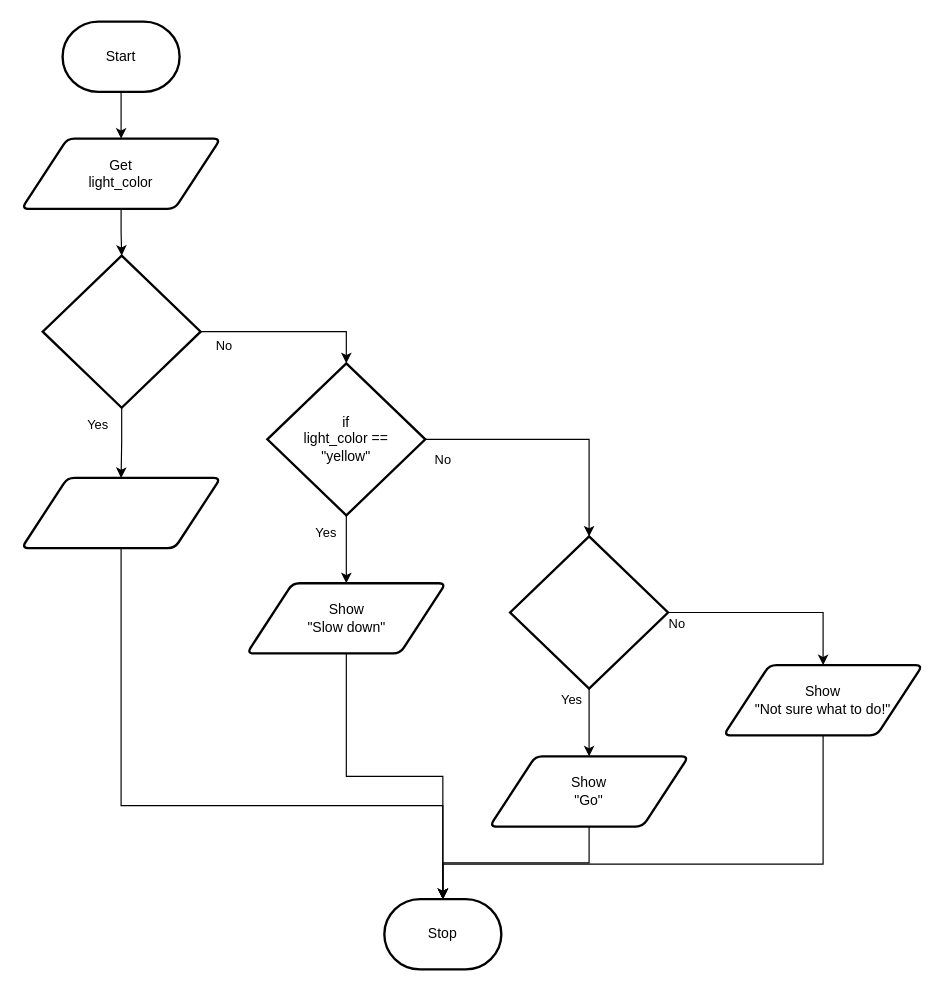
This 943x990 diagram has some shape labels left out. Here are the shapes that lost their labels. From the top down, the box of each, then its label:
(41, 254, 201, 408): if light_color == "red"
(20, 476, 221, 549): Show "Stop!"
(508, 535, 669, 689): if light_color == "green"
